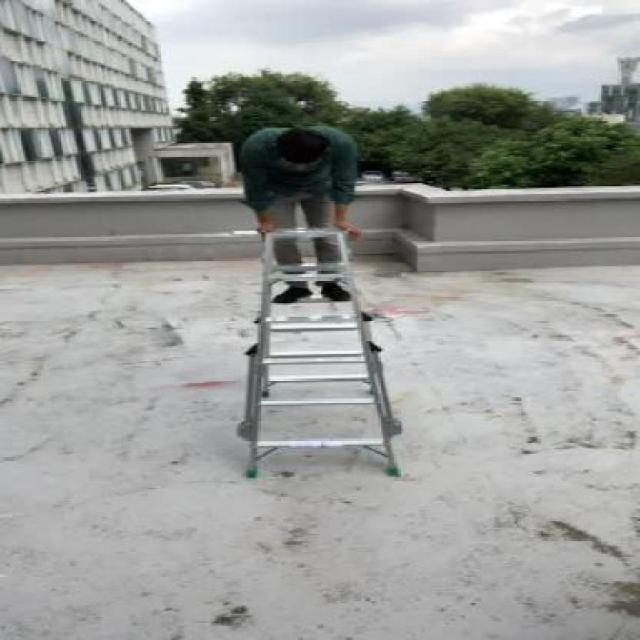hard hat: (220, 224, 428, 483)
vest: (229, 120, 369, 308)
